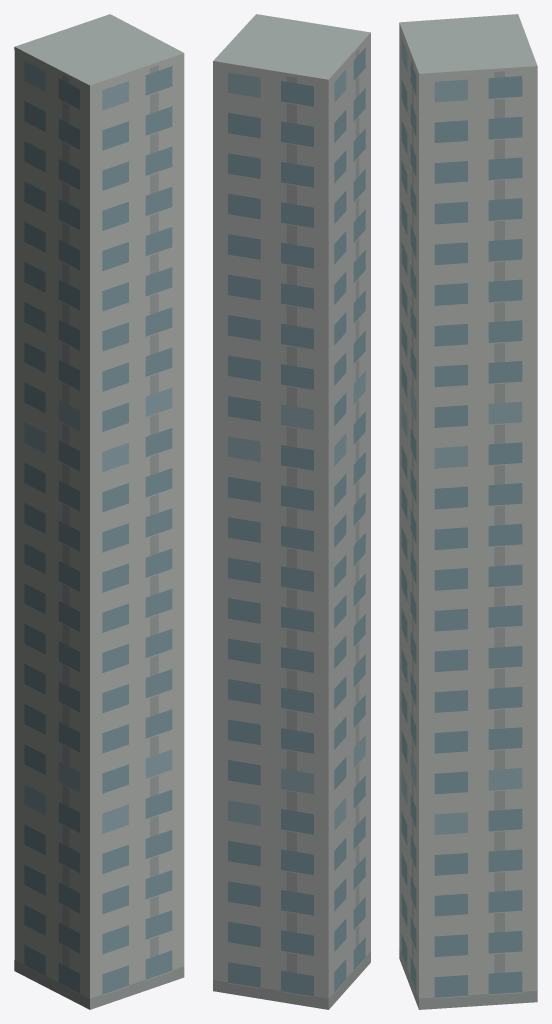
Rendered from survey-upis-33009760.glb.
The picture shows the model from 3 angles, left to right: view 1: azimuth 30°, elevation 25°; view 2: azimuth 150°, elevation 25°; view 3: azimuth 270°, elevation 25°; orthographic projection.
Parts seen in each view (by area): view 1: survey-upis-33009760.tmp; view 2: survey-upis-33009760.tmp; view 3: survey-upis-33009760.tmp.
Boxes of the visible parts, x1,y1,x2,y2 form: survey-upis-33009760.tmp: (14,14,184,1009); survey-upis-33009760.tmp: (213,14,370,1009); survey-upis-33009760.tmp: (399,14,537,1009).
Size of the model in its own units: 9.62 by 70.15 by 9.4.
